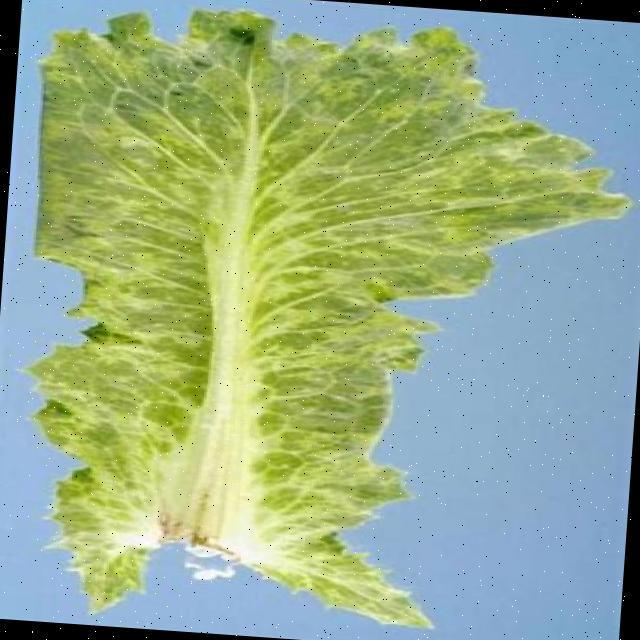Lettuce Mosaic Virus: (46, 5, 526, 608)
